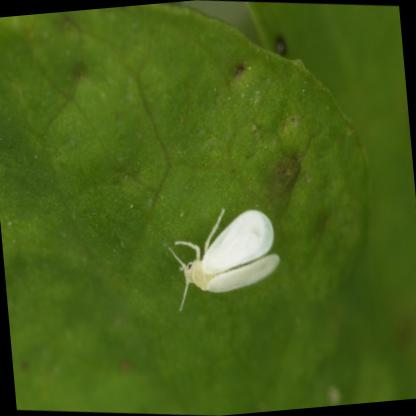whitefly: (170, 207, 280, 292)
